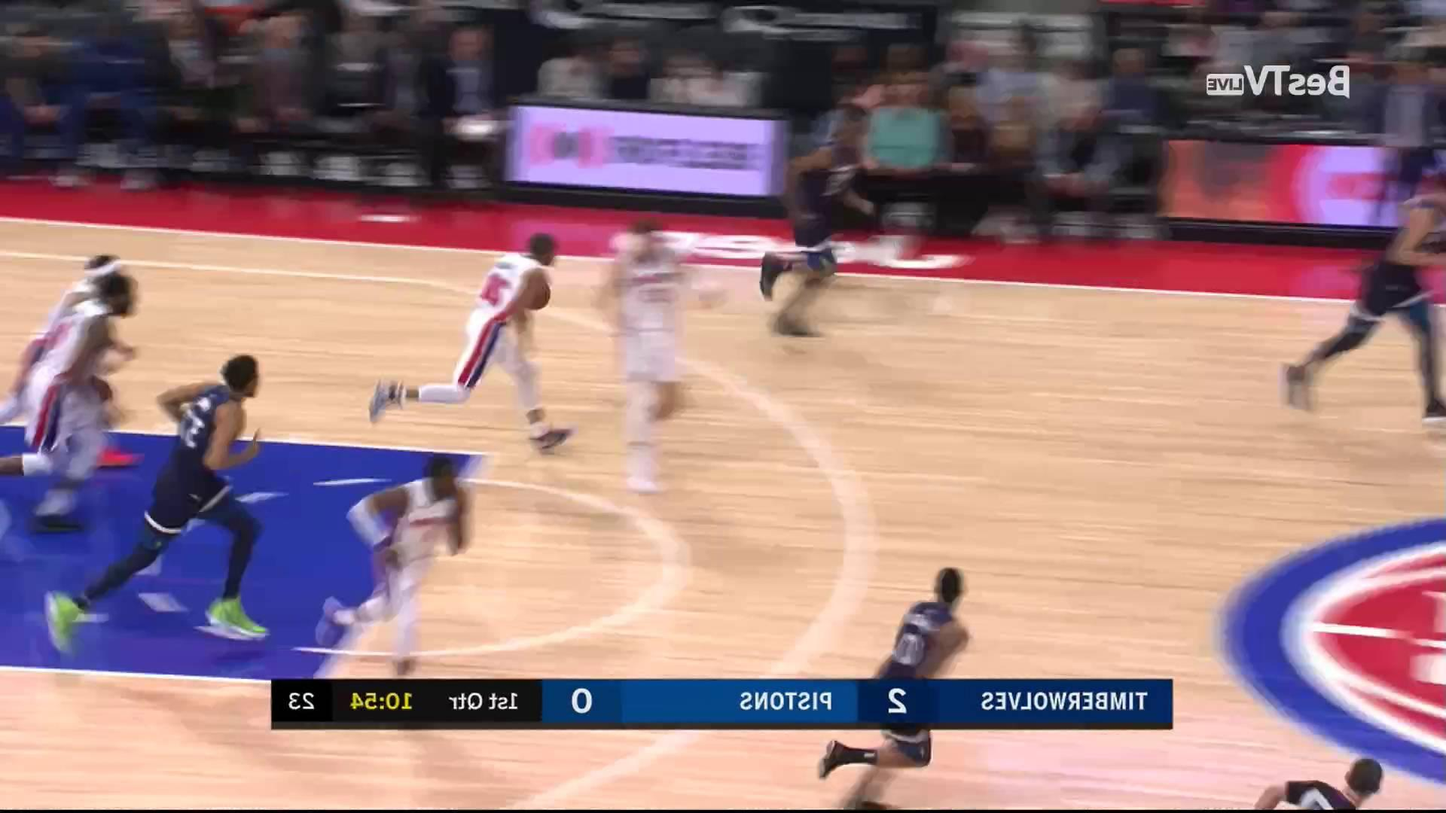basketball: (525, 283, 547, 308)
